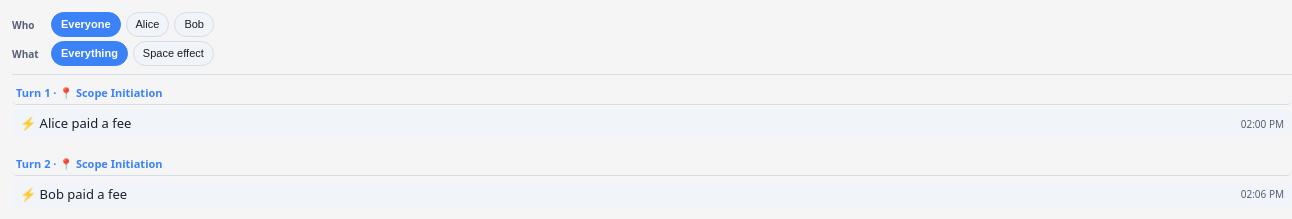
Test case: HistoryFeed — the filters are on screen › keeps the turn divider over a narrowed feed, and drops dividers left empty
The image size is (1292, 219).
Expected: the text "Turn 1 · 📍 Scope Initiation" is shown, [16,85,162,100]
Expected: the text "Turn 2 · 📍 Scope Initiation" is shown, [16,156,162,171]
Click the button "Bob": [194, 25] box [174,12,214,37]
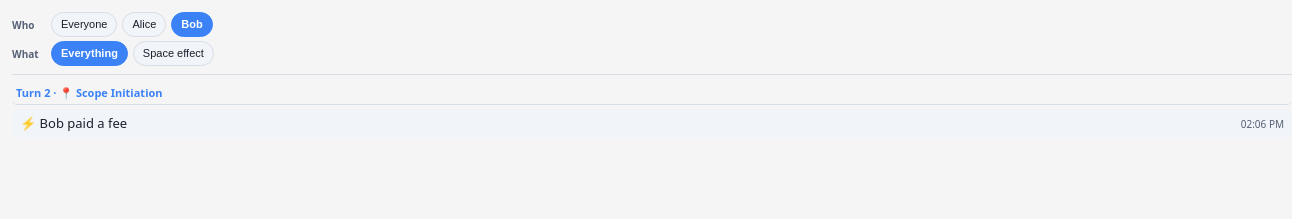
Now the text "Turn 1 ·" is gone
Now the text "Turn 2 · 📍 Scope Initiation" is shown, box [16,85,162,100]
